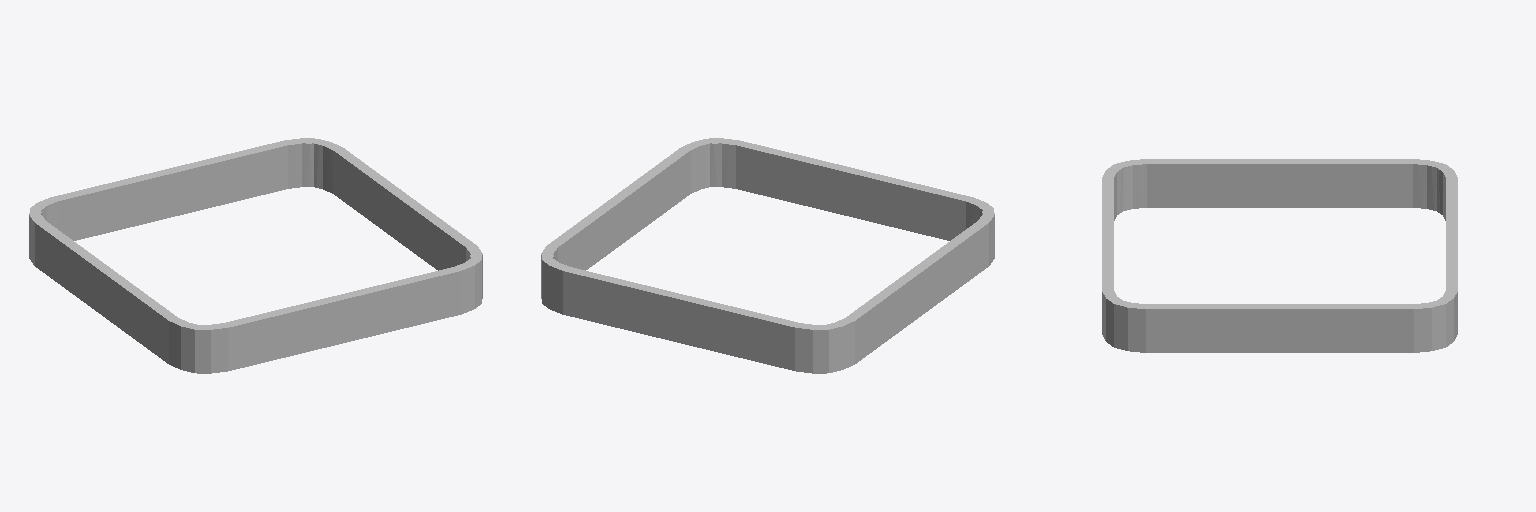
Rendered from sliderchain.obj.
The picture shows the model from 3 angles: view 1: azimuth 30°, elevation 25°; view 2: azimuth 150°, elevation 25°; view 3: azimuth 270°, elevation 25°; orthographic projection.
Visible parts, largest first — view 1: block; view 2: block; view 3: block.
Boxes of the visible parts, x1,y1,x2,y2 form: block: [29, 138, 482, 373]; block: [541, 138, 994, 373]; block: [1102, 159, 1457, 352].
Size of the model in its own units: 0.2954 by 0.04 by 0.2954.